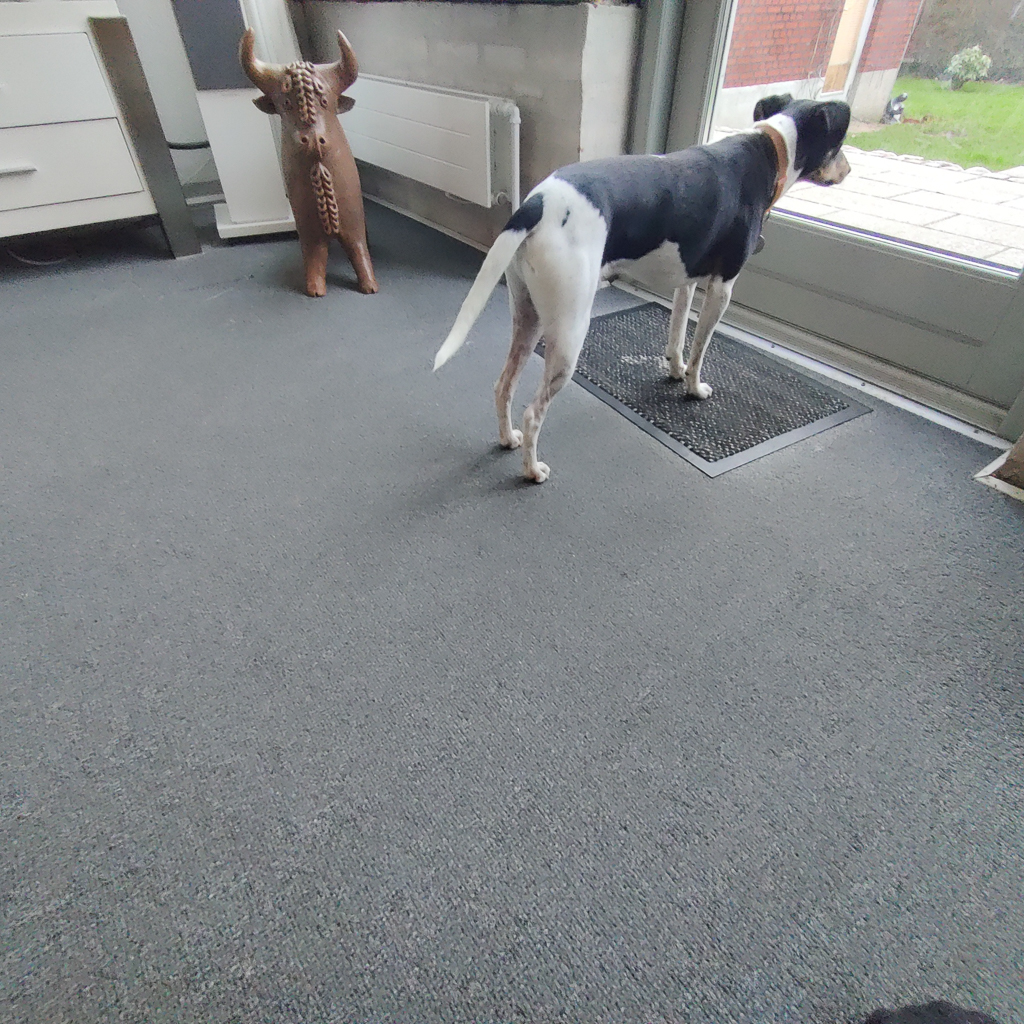Cattle: (222, 20, 390, 303)
Dog: (420, 91, 871, 499)
Humanoid: (851, 981, 1014, 1024), (877, 88, 909, 128)
